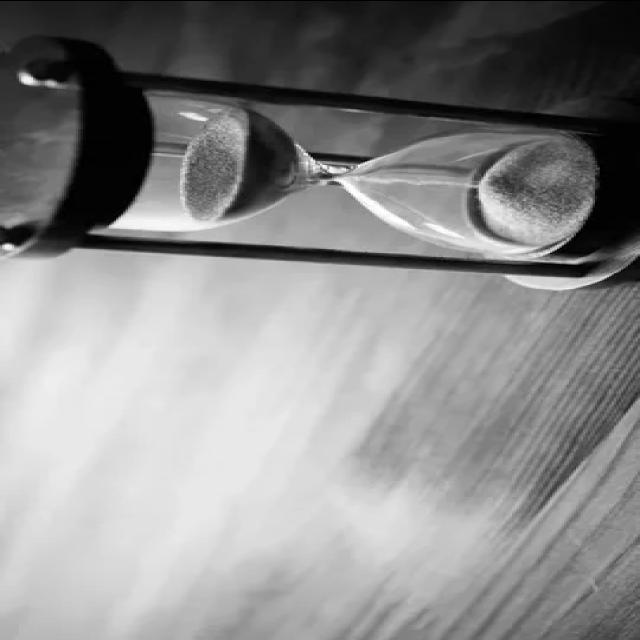clock: (0, 37, 640, 296)
